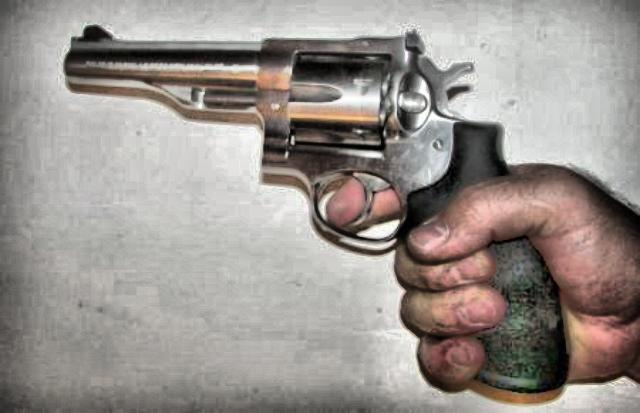pistol: (65, 21, 567, 390)
